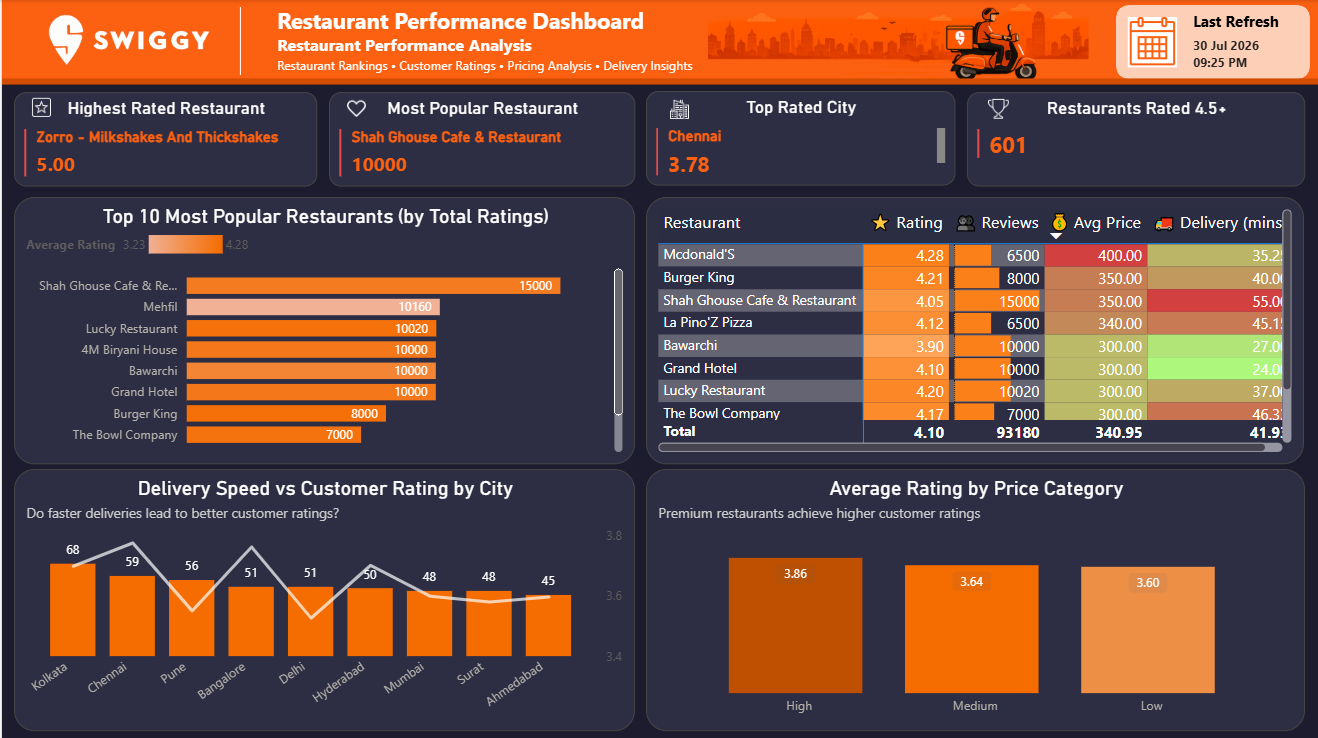

The page's visual inventory and layout, read from the dashboard file:
{"tool":"powerbi","page":{"name":"Restaurant Performance","canvas":[1280,720],"ordinal":1},"visuals":[{"type":"group","id":"g1","title":"Group 1","box":[1083.6,4.9,188.7,72],"z":0,"group":"g4"},{"type":"shape","title":"Last Refresh","box":[1083.6,4.9,188.7,72],"z":0,"group":"g1"},{"type":"shape","box":[177,6.8,102.1,66.1],"z":0},{"type":"multiRowCard","title":"Highest Rated Restaurant ","fields":{"Values":["swiggy.Top Rated Restaurant","swiggy.Top Rated Restaurant Rating"]},"box":[11.4,90.3,294.7,92.4],"z":0,"group":"g5"},{"type":"multiRowCard","title":"Fast Delivery Rating","fields":{"Values":["swiggy.Fast Delivery Rating"]},"box":[317.3,90.3,297.6,92.4],"z":0,"group":"g7"},{"type":"multiRowCard","title":"Top Rated City","fields":{"Values":["swiggy.Top Rated City","swiggy.Top City Rating","swiggy.Top Rated City Restaurant Label"]},"box":[626.3,90.3,300.5,92.4],"z":0,"group":"g9"},{"type":"group","id":"g2","title":"Group 6","box":[938.5,92.4,328.8,92.4],"z":0,"group":"g11"},{"type":"multiRowCard","title":"Restaurants Rated 4.5+","fields":{"Values":["swiggy.Restaurants Rated 4.5+"]},"box":[938.5,92.4,328.8,92.4],"z":0,"group":"g10"},{"type":"shape","box":[0,0,1280,79.8],"z":1000},{"type":"image","box":[1068,16.6,102.1,48.6],"z":1000,"group":"g4"},{"type":"image","box":[22.9,94.2,30.4,22.4],"z":1000,"group":"g5"},{"type":"image","box":[955,97.3,32,22.4],"z":1000,"group":"g11"},{"type":"image","box":[437.7,0,842.3,79.8],"z":2000},{"type":"textbox","box":[1153.6,4.9,96.3,32.1],"z":2000,"group":"g1"},{"type":"group","id":"g3","title":"Group 3","box":[2.7,0,683,79.8],"z":3000},{"type":"textbox","box":[1153.6,29.2,116.7,47.7],"z":3000,"group":"g1"},{"type":"group","id":"g4","title":"Group 2","box":[1068,4.9,204.3,72],"z":4000},{"type":"shape","box":[0,59.3,1280,39.9],"z":5000},{"type":"group","id":"g5","title":"Group 4","box":[11.4,90.3,294.8,92.4],"z":6000},{"type":"group","id":"g6","title":"Group 5","box":[317.3,90.3,297.6,92.4],"z":7000,"group":"g16"},{"type":"group","id":"g7","title":"Group 4","box":[317.3,90.3,297.6,92.4],"z":7000,"group":"g6"},{"type":"group","id":"g8","title":"Group 6","box":[626.3,90.3,301.1,92.4],"z":7000},{"type":"group","id":"g9","title":"Group 4","box":[626.3,90.3,300.5,92.4],"z":7000,"group":"g12"},{"type":"group","id":"g10","title":"Group 4","box":[938.5,92.4,328.8,92.4],"z":7000,"group":"g13"},{"type":"group","id":"g11","title":"Group 7","box":[938.5,92.4,329.1,92.4],"z":8000},{"type":"clusteredBarChart","title":"Top 10 Most Popular Restaurants (by Total Ratings)","fields":{"Category":["swiggy.Restaurant"],"Y":["swiggy.Restaurant Reviews"]},"box":[11.4,192.1,604.2,259.5],"z":9000},{"type":"group","id":"g12","title":"Group 5","box":[626.3,90.3,300.5,92.4],"z":9001,"group":"g8"},{"type":"group","id":"g13","title":"Group 5","box":[938.5,92.4,328.8,92.4],"z":9001,"group":"g2"},{"type":"pivotTable","fields":{"Rows":["swiggy.Restaurant"],"Values":["Avg(swiggy.Avg ratings)","swiggy.Restaurant Reviews","Avg(swiggy.Price)","Avg(swiggy.Delivery time)"]},"box":[619.8,192.1,646.7,259.5],"z":10000},{"type":"lineClusteredColumnComboChart","title":"Delivery Speed vs Customer Rating by City","fields":{"Category":["swiggy.City"],"Y":["swiggy.Average Delivery Time"],"Y2":["Avg(swiggy.Avg ratings)"]},"box":[11.7,456.2,604,255],"z":11000},{"type":"clusteredColumnChart","title":"Average Rating by Price Category","fields":{"Category":["swiggy.Price Category"],"Y":["swiggy.Average Rating"]},"box":[619.8,455.7,647.8,255.4],"z":12000},{"type":"group","id":"g14","title":"Group 8","box":[317.3,90.3,297.6,92.4],"z":13000,"group":"g15"},{"type":"group","id":"g15","title":"Group 9","box":[317.3,90.3,297.9,92.4],"z":13001},{"type":"group","id":"g16","title":"Group 10","box":[317.3,90.3,297.6,92.4],"z":13002,"group":"g14"},{"type":"image","box":[334.8,97.1,32.1,22.4],"z":13002,"group":"g16"},{"type":"image","box":[2.7,0,243.2,79.8],"z":15000,"group":"g3"},{"type":"textbox","box":[262.2,0,423.5,79.8],"z":16000,"group":"g3"},{"type":"shape","box":[180,6.8,103.9,66.1],"z":17009,"group":"g3"},{"type":"image","box":[642.9,97.1,32,22.4],"z":19000,"group":"g8"}]}

Visuals, with their boxes in screenshot pixels (x1, y1, x2, y2), scaled from the page's 1280x720 canvas onto the 1318x738 screenshot:
"Group 1" group: x1=1116, y1=5, x2=1310, y2=79
"Last Refresh" shape: x1=1116, y1=5, x2=1310, y2=79
shape: x1=182, y1=7, x2=287, y2=75
"Highest Rated Restaurant " multiRowCard: x1=12, y1=93, x2=315, y2=187
"Fast Delivery Rating" multiRowCard: x1=327, y1=93, x2=633, y2=187
"Top Rated City" multiRowCard: x1=645, y1=93, x2=954, y2=187
"Group 6" group: x1=966, y1=95, x2=1305, y2=189
"Restaurants Rated 4.5+" multiRowCard: x1=966, y1=95, x2=1305, y2=189
shape: x1=0, y1=0, x2=1317, y2=82
image: x1=1100, y1=17, x2=1205, y2=67
image: x1=24, y1=97, x2=55, y2=120
image: x1=983, y1=100, x2=1016, y2=123
image: x1=451, y1=0, x2=1317, y2=82
textbox: x1=1188, y1=5, x2=1287, y2=38
"Group 3" group: x1=3, y1=0, x2=706, y2=82
textbox: x1=1188, y1=30, x2=1308, y2=79
"Group 2" group: x1=1100, y1=5, x2=1310, y2=79
shape: x1=0, y1=61, x2=1317, y2=102
"Group 4" group: x1=12, y1=93, x2=315, y2=187
"Group 5" group: x1=327, y1=93, x2=633, y2=187
"Group 4" group: x1=327, y1=93, x2=633, y2=187
"Group 6" group: x1=645, y1=93, x2=955, y2=187
"Group 4" group: x1=645, y1=93, x2=954, y2=187
"Group 4" group: x1=966, y1=95, x2=1305, y2=189
"Group 7" group: x1=966, y1=95, x2=1305, y2=189
"Top 10 Most Popular Restaurants (by Total Ratings)" clusteredBarChart: x1=12, y1=197, x2=634, y2=463
"Group 5" group: x1=645, y1=93, x2=954, y2=187
"Group 5" group: x1=966, y1=95, x2=1305, y2=189
pivotTable - swiggy.Restaurant x Avg(swiggy.Avg ratings): x1=638, y1=197, x2=1304, y2=463
"Delivery Speed vs Customer Rating by City" lineClusteredColumnComboChart: x1=12, y1=468, x2=634, y2=729
"Average Rating by Price Category" clusteredColumnChart: x1=638, y1=467, x2=1305, y2=729
"Group 8" group: x1=327, y1=93, x2=633, y2=187
"Group 9" group: x1=327, y1=93, x2=633, y2=187
"Group 10" group: x1=327, y1=93, x2=633, y2=187
image: x1=345, y1=100, x2=378, y2=122
image: x1=3, y1=0, x2=253, y2=82
textbox: x1=270, y1=0, x2=706, y2=82
shape: x1=185, y1=7, x2=292, y2=75
image: x1=662, y1=100, x2=695, y2=122
